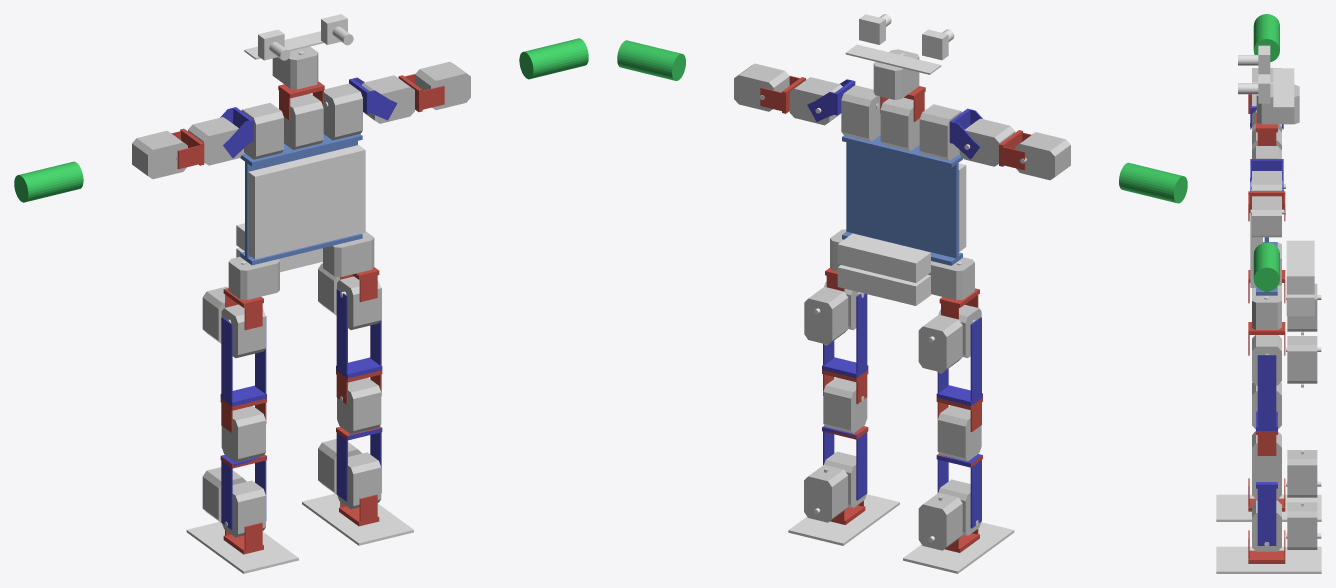
The model's file is full_robot_mx28(v6).dae.
The picture shows the model from 3 angles, left to right: view 1: azimuth 30°, elevation 25°; view 2: azimuth 150°, elevation 25°; view 3: azimuth 270°, elevation 25°; orthographic projection. The views are drawn at different scales.
Parts seen in each view (by area): view 1: electronics, Central, left_foot, right_foot, right_leg_servo4, left_leg_servo4, fr07-101_007, left_arm_servo1, fr07-101_024, right_arm_servo3, left_hand, right_hand (+25 smaller); view 2: Central, Central_physical, battery1, battery2, right_leg_servo3, right_foot, left_leg_servo3, left_foot, right_leg_servo5, left_leg_servo5, left_leg_servo4, right_leg_servo4 (+23 smaller); view 3: left_foot, battery1, fr07-101_024, left_leg_servo3, left_leg_servo5, right_leg_servo5, right_foot, fr07-101_002, left_arm_servo3, left_hand, left_leg_servo1, head_servo2 (+28 smaller).
Part boxes in pixels (<box>): electronics: <box>248,145,365,259</box>; Central: <box>240,134,362,265</box>; left_foot: <box>302,493,413,545</box>; right_foot: <box>186,522,298,573</box>; right_leg_servo4: <box>221,406,265,462</box>; left_leg_servo4: <box>337,378,381,434</box>; fr07-101_007: <box>220,316,266,406</box>; left_arm_servo1: <box>323,83,362,140</box>; fr07-101_024: <box>336,288,382,378</box>; right_arm_servo3: <box>132,130,187,179</box>; left_hand: <box>519,38,588,79</box>; right_hand: <box>14,161,83,202</box>; Central: <box>842,135,962,265</box>; Central_physical: <box>846,142,958,260</box>; battery1: <box>837,233,930,282</box>; battery2: <box>837,265,930,305</box>; right_leg_servo3: <box>918,315,962,372</box>; right_foot: <box>903,522,1014,573</box>; left_leg_servo3: <box>804,287,848,344</box>; left_foot: <box>788,494,899,545</box>; right_leg_servo5: <box>918,492,962,550</box>; left_leg_servo5: <box>804,464,847,522</box>; left_leg_servo4: <box>823,377,867,433</box>; right_leg_servo4: <box>937,405,981,461</box>; left_foot: <box>1216,546,1321,573</box>; battery1: <box>1286,240,1314,294</box>; fr07-101_024: <box>1256,355,1277,430</box>; left_leg_servo3: <box>1287,336,1317,383</box>; left_leg_servo5: <box>1287,502,1317,549</box>; right_leg_servo5: <box>1287,450,1317,497</box>; right_foot: <box>1216,494,1321,521</box>; fr07-101_002: <box>1256,482,1277,545</box>; left_arm_servo3: <box>1252,196,1281,237</box>; left_hand: <box>1253,242,1279,291</box>; left_leg_servo1: <box>1252,285,1281,329</box>; head_servo2: <box>1256,84,1299,124</box>.
Bounding box in the file's own units: 7.1 × 1.25 × 6.14.
